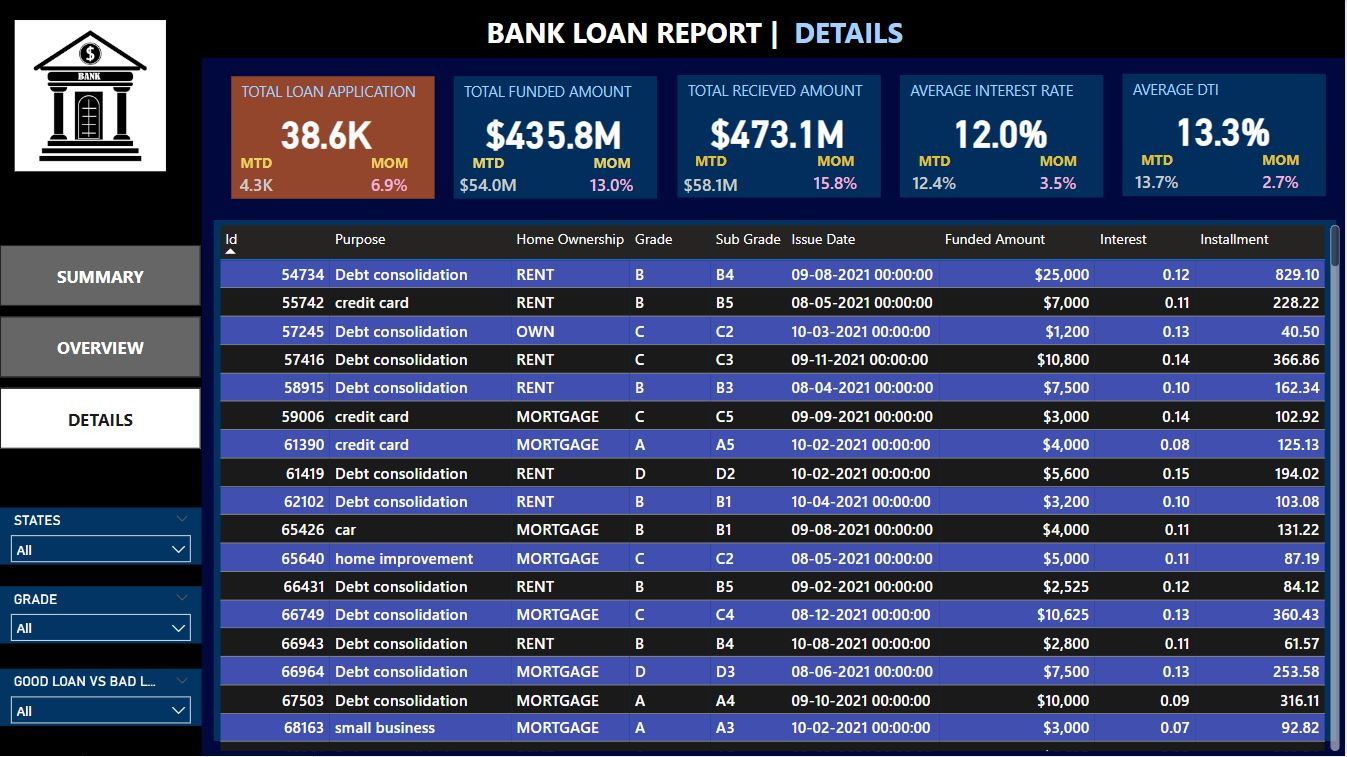

This screenshot's page, from the dashboard's own definition file:
{"tool":"powerbi","page":{"name":"DETAILS","canvas":[1280,720],"ordinal":2},"visuals":[{"type":"shape","box":[0,0,1280.3,54.9],"z":0},{"type":"shape","box":[1068.8,70.2,194,116.6],"z":500,"group":"g5"},{"type":"shape","box":[644.6,71.4,194,116.6],"z":500,"group":"g3"},{"type":"shape","box":[856.7,71.4,194,116.6],"z":500,"group":"g4"},{"type":"shape","box":[220.2,72.6,194,116.6],"z":500,"group":"g1"},{"type":"shape","box":[432.4,72.6,194,116.6],"z":500,"group":"g2"},{"type":"shape","box":[0,54.9,192.1,665.5],"z":1000},{"type":"card","fields":{"Values":["Bank_loan_data.Average_DTI"]},"box":[1087.7,100.4,152.3,46.4],"z":1000,"group":"g5"},{"type":"card","fields":{"Values":["Bank_loan_data.Total_Recieved_Amount"]},"box":[663.4,101.6,152.3,46.4],"z":1000,"group":"g3"},{"type":"card","fields":{"Values":["Bank_loan_data.Average_interest_rate"]},"box":[875.6,101.6,152.3,46.4],"z":1000,"group":"g4"},{"type":"card","fields":{"Values":["Bank_loan_data.Total_Loan_Application"]},"box":[261.1,102.8,100,46.4],"z":1000,"group":"g1"},{"type":"card","fields":{"Values":["Bank_loan_data.TOTAL_FUNDED_AMOUNT"]},"box":[451.3,102.8,152.3,46.4],"z":1000,"group":"g2"},{"type":"shape","box":[203.5,209.5,1068.7,496.3],"z":2000},{"type":"textbox","box":[458.3,6.9,448.7,48],"z":3000},{"type":"textbox","box":[1073.6,70.2,185.7,30.9],"z":3000,"group":"g5"},{"type":"textbox","box":[649.4,71.4,185.7,30.9],"z":3000,"group":"g3"},{"type":"textbox","box":[861.5,71.4,185.7,30.9],"z":3000,"group":"g4"},{"type":"textbox","box":[224.9,72.6,185.7,30.9],"z":3000,"group":"g1"},{"type":"textbox","box":[437.2,72.6,185.7,30.9],"z":3000,"group":"g2"},{"type":"group","id":"g1","title":"Group 2","box":[216.6,72.6,197.6,116.6],"z":4000},{"type":"group","id":"g2","title":"Group 2","box":[428.7,72.6,197.6,116.6],"z":5000},{"type":"group","id":"g3","title":"Group 2","box":[644.6,71.4,194,116.6],"z":6000},{"type":"card","title":"MTD","fields":{"Values":["Bank_loan_data.MTD_Average_DTI"]},"box":[1065.1,143.3,72.6,44],"z":6000,"group":"g5"},{"type":"card","title":"MTD","fields":{"Values":["Bank_loan_data.MTD_recieved_Amount"]},"box":[645.1,143.5,63.1,41.7],"z":6000,"group":"g3"},{"type":"card","title":"MTD","fields":{"Values":["Bank_loan_data.MTD_Average_Interest_Rate"]},"box":[853,144.5,72.6,44],"z":6000,"group":"g4"},{"type":"card","title":"MTD","fields":{"Values":["Bank_loan_data.MTD_Loan_Application"]},"box":[216.6,145.2,54.7,44],"z":6000,"group":"g1"},{"type":"card","title":"MTD","fields":{"Values":["Bank_loan_data.MTD_Funded_Amount"]},"box":[428.7,145.7,72.6,44],"z":6000,"group":"g2"},{"type":"group","id":"g4","title":"Group 2","box":[853,71.4,197.6,117.8],"z":7000},{"type":"card","title":"MOM","fields":{"Values":["Bank_loan_data.MOM_Average_DTI"]},"box":[1187.9,142.8,63.1,44],"z":7000,"group":"g5"},{"type":"card","title":"MOM","fields":{"Values":["Bank_loan_data.MOM_recieved_amount"]},"box":[763.6,144,63.1,44],"z":7000,"group":"g3"},{"type":"card","title":"MOM","fields":{"Values":["Bank_loan_data.MOM_Average_interest_rate"]},"box":[975.8,144,63.1,44],"z":7000,"group":"g4"},{"type":"card","title":"MOM","fields":{"Values":["Bank_loan_data.MOM_LOAN_APPLICATION"]},"box":[339.2,145.2,63.1,44],"z":7000,"group":"g1"},{"type":"card","title":"MOM","fields":{"Values":["Bank_loan_data.MOM_Funded_Amount"]},"box":[551.5,145.2,63.1,44],"z":7000,"group":"g2"},{"type":"group","id":"g5","title":"Group 2","box":[1065.1,70.2,197.6,117.8],"z":8000},{"type":"slicer","fields":{"Values":["Bank_loan_data.address_state"]},"box":[0,483.2,191.6,54.7],"z":9000},{"type":"slicer","fields":{"Values":["Bank_loan_data.grade"]},"box":[0,558.1,191.6,54.7],"z":10000},{"type":"slicer","fields":{"Values":["Bank_loan_data.Good vs Bad Loan"]},"box":[0,636.7,191.6,54.7],"z":11000},{"type":"tableEx","fields":{"Values":["Bank_loan_data.id","Bank_loan_data.purpose","Bank_loan_data.home_ownership","Bank_loan_data.grade","Bank_loan_data.sub_grade","Bank_loan_data.issue_date","Bank_loan_data.TOTAL_FUNDED_AMOUNT","Sum(Bank_loan_data.int_rate)","Sum(Bank_loan_data.installment)"]},"box":[203.5,209.5,1077,510.5],"z":13001},{"type":"image","box":[1.2,14.3,169,153.5],"z":13002},{"type":"pageNavigator","box":[0,233.3,191.6,195.2],"z":13003}]}

Visuals, with their boxes in screenshot pixels (x1, y1, x2, y2), scaled from the page's 1280x720 canvas onto the 1347x757 screenshot:
shape: region(0, 0, 1346, 58)
shape: region(1125, 74, 1329, 196)
shape: region(678, 75, 882, 198)
shape: region(902, 75, 1106, 198)
shape: region(232, 76, 436, 199)
shape: region(455, 76, 659, 199)
shape: region(0, 58, 202, 756)
card - Bank_loan_data.Average_DTI: region(1145, 106, 1305, 154)
card - Bank_loan_data.Total_Recieved_Amount: region(698, 107, 858, 156)
card - Bank_loan_data.Average_interest_rate: region(921, 107, 1082, 156)
card - Bank_loan_data.Total_Loan_Application: region(275, 108, 380, 157)
card - Bank_loan_data.TOTAL_FUNDED_AMOUNT: region(475, 108, 635, 157)
shape: region(214, 220, 1339, 742)
textbox: region(482, 7, 954, 58)
textbox: region(1130, 74, 1325, 106)
textbox: region(683, 75, 879, 108)
textbox: region(907, 75, 1102, 108)
textbox: region(237, 76, 432, 109)
textbox: region(460, 76, 656, 109)
"Group 2" group: region(228, 76, 436, 199)
"Group 2" group: region(451, 76, 659, 199)
"Group 2" group: region(678, 75, 882, 198)
"MTD" card: region(1121, 151, 1197, 197)
"MTD" card: region(679, 151, 745, 195)
"MTD" card: region(898, 152, 974, 198)
"MTD" card: region(228, 153, 286, 199)
"MTD" card: region(451, 153, 528, 199)
"Group 2" group: region(898, 75, 1106, 199)
"MOM" card: region(1250, 150, 1316, 196)
"MOM" card: region(804, 151, 870, 198)
"MOM" card: region(1027, 151, 1093, 198)
"MOM" card: region(357, 153, 423, 199)
"MOM" card: region(580, 153, 647, 199)
"Group 2" group: region(1121, 74, 1329, 198)
slicer - Bank_loan_data.address_state: region(0, 508, 202, 566)
slicer - Bank_loan_data.grade: region(0, 587, 202, 644)
slicer - Bank_loan_data.Good vs Bad Loan: region(0, 669, 202, 727)
tableEx - Bank_loan_data.id x Bank_loan_data.purpose: region(214, 220, 1346, 756)
image: region(1, 15, 179, 176)
pageNavigator: region(0, 245, 202, 451)
